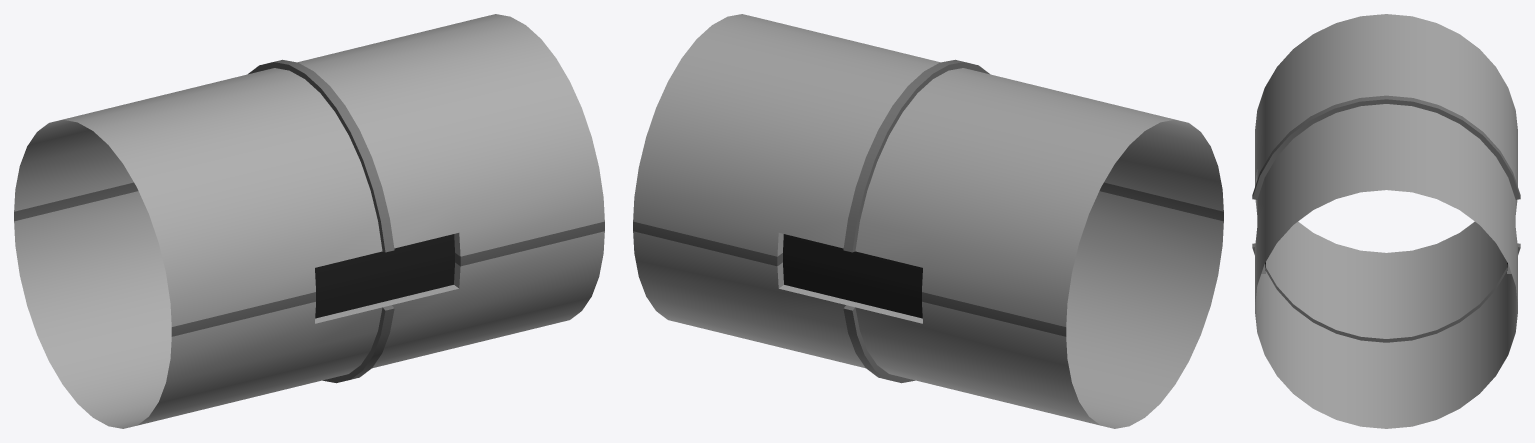
The model's file is Connector.glb.
3 views of the same model, side by side, from view 1: azimuth 30°, elevation 25°; view 2: azimuth 150°, elevation 25°; view 3: azimuth 270°, elevation 25° (orthographic). The views are drawn at different scales.
Visible parts, largest first — view 1: Connector; view 2: Connector; view 3: Connector.
Boxes of the visible parts, <box> form: Connector: <box>14,14,604,428</box>; Connector: <box>633,14,1223,428</box>; Connector: <box>1252,14,1520,428</box>.
Bounding box in the file's own units: 3.37 × 2.21 × 2.17.
1 material, 1 textured.
